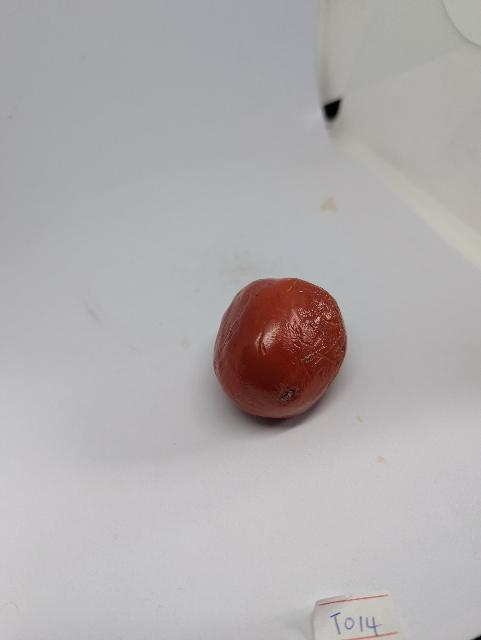defect: (212, 275, 350, 423)
